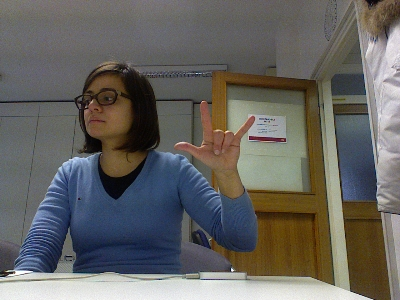我爱你: (171, 99, 255, 171)
